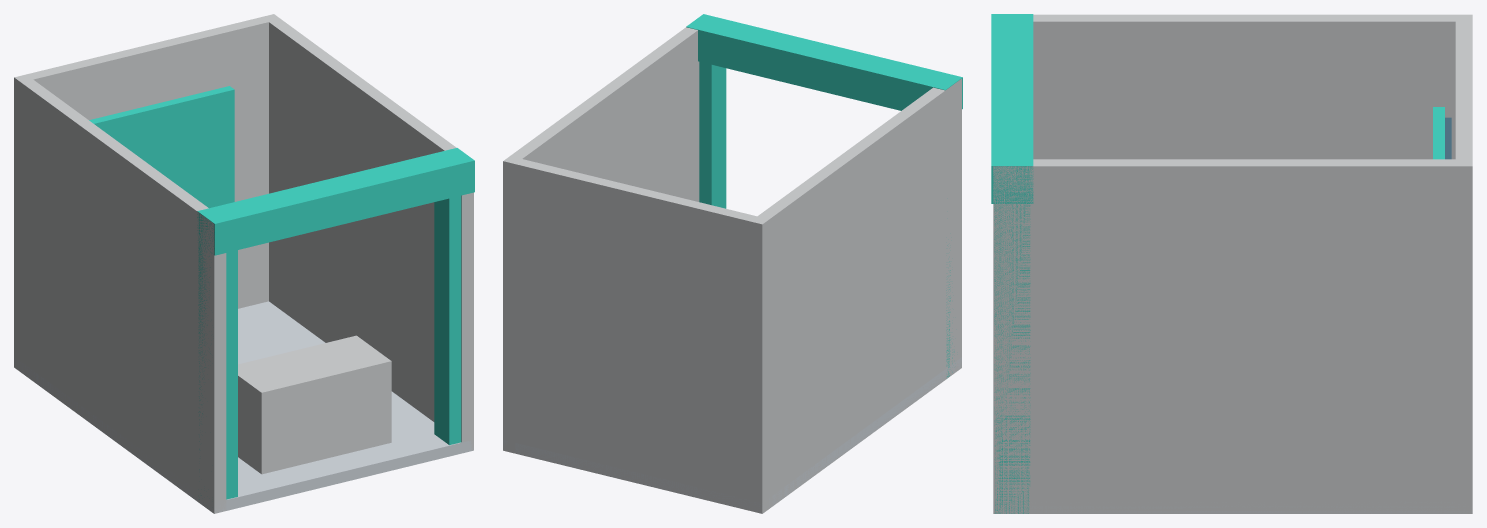
3 renders of one model, left to right at view 1: azimuth 30°, elevation 25°; view 2: azimuth 150°, elevation 25°; view 3: azimuth 270°, elevation 25°, orthographic. The views are drawn at different scales.
Parts seen in each view (by area): view 1: Exhibition Booth Concept; view 2: Exhibition Booth Concept; view 3: Exhibition Booth Concept.
Part boxes in pixels (x1=…): Exhibition Booth Concept: x1=14, y1=14, x2=474, y2=513; Exhibition Booth Concept: x1=503, y1=14, x2=962, y2=513; Exhibition Booth Concept: x1=991, y1=14, x2=1472, y2=513.
Size of the model in its own units: 3 by 3.2 by 4.02.
